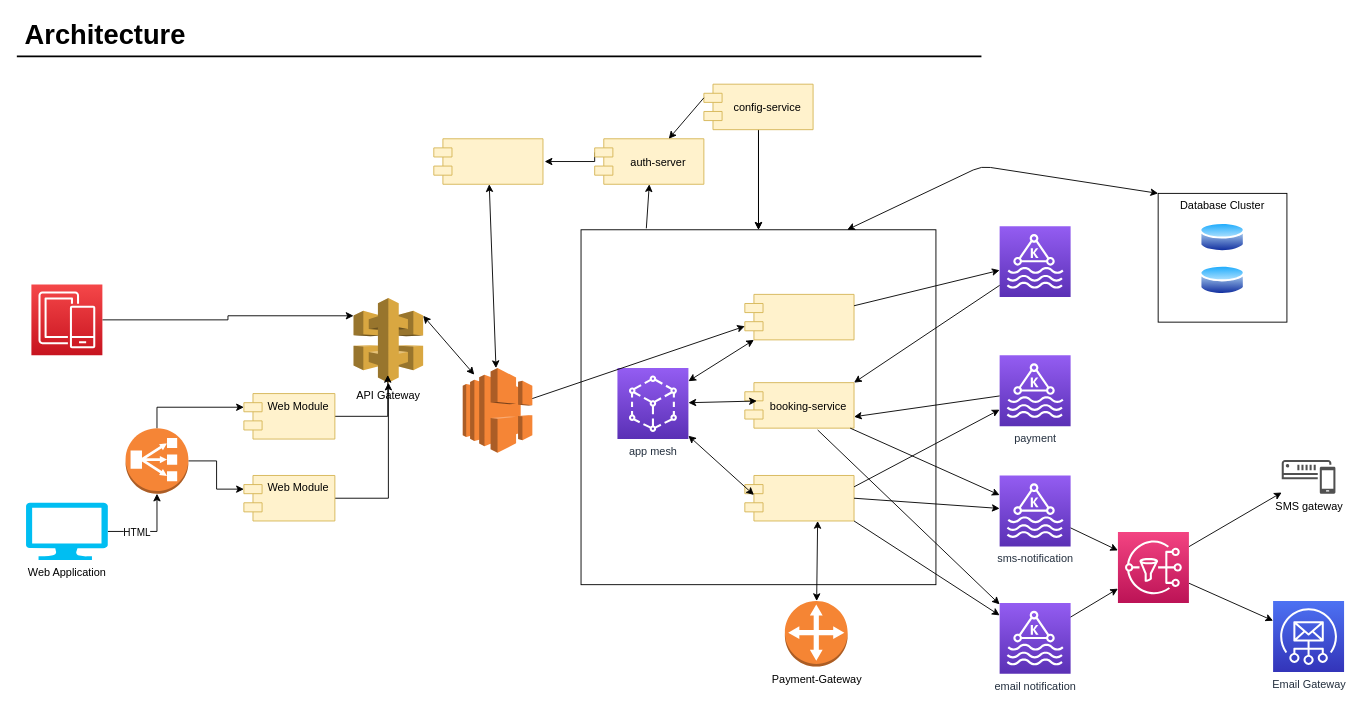
The diagram is 1360 pixels wide and 709 high, and some of its shapes have lost their labels. Each missing label, with the box of its shape:
booking: (999, 225, 1071, 297)
discovery-service: (433, 138, 543, 184)
Micrservices: (580, 229, 936, 585)
Mobile Application: (30, 283, 102, 355)
payment-service: (744, 475, 854, 521)
search-service: (744, 293, 854, 340)
SNS service: (1117, 531, 1189, 603)
